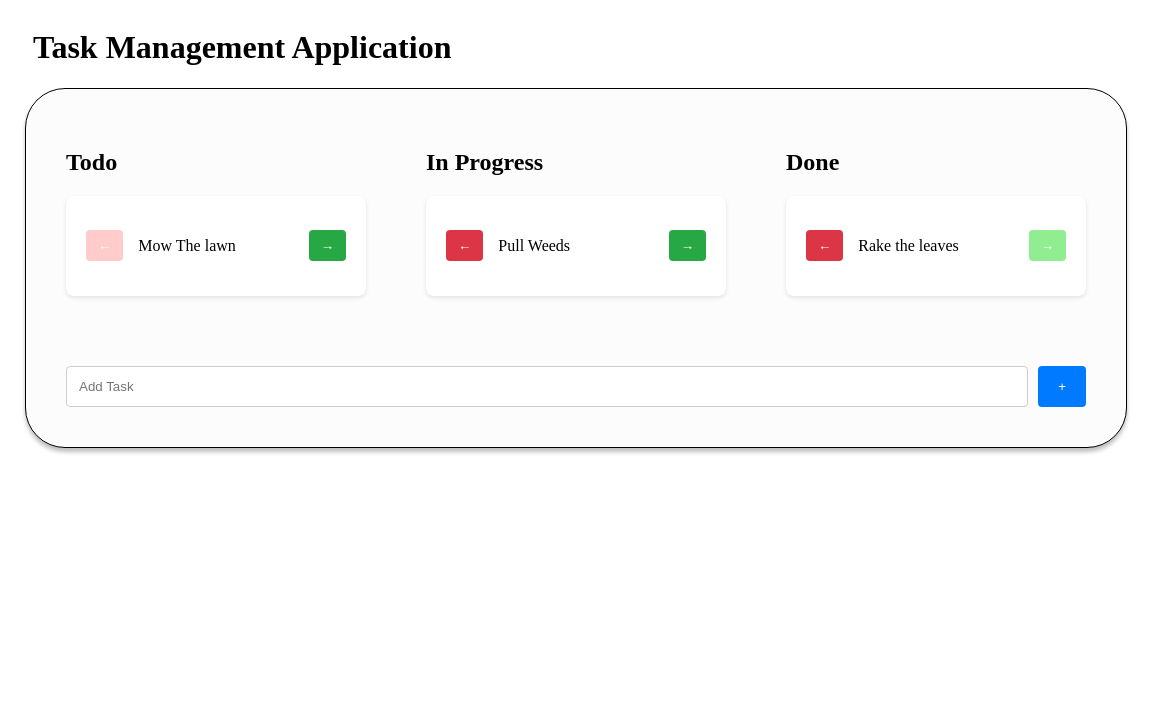
Scenario: Task Management Application › can add a new task
Type "Water the plants" into the field with placeholder "Add Task" at [547, 386], box [66,366,1028,407]
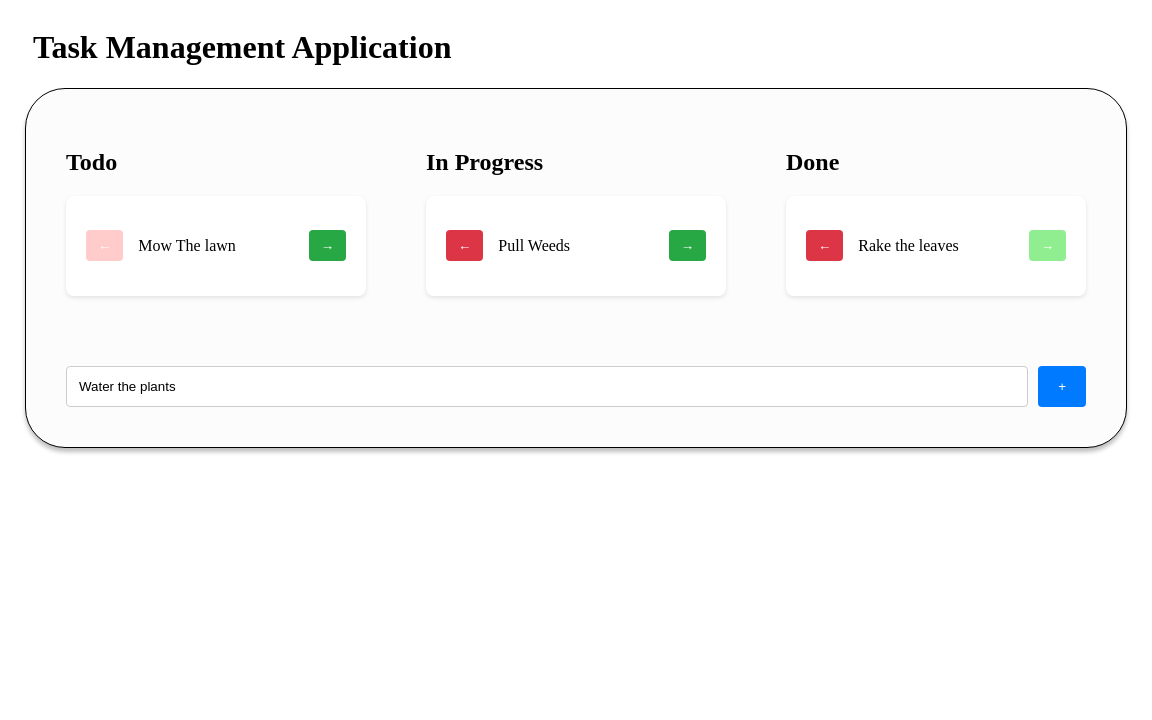
Click the button "+" at [1062, 386], box [1038,366,1086,407]
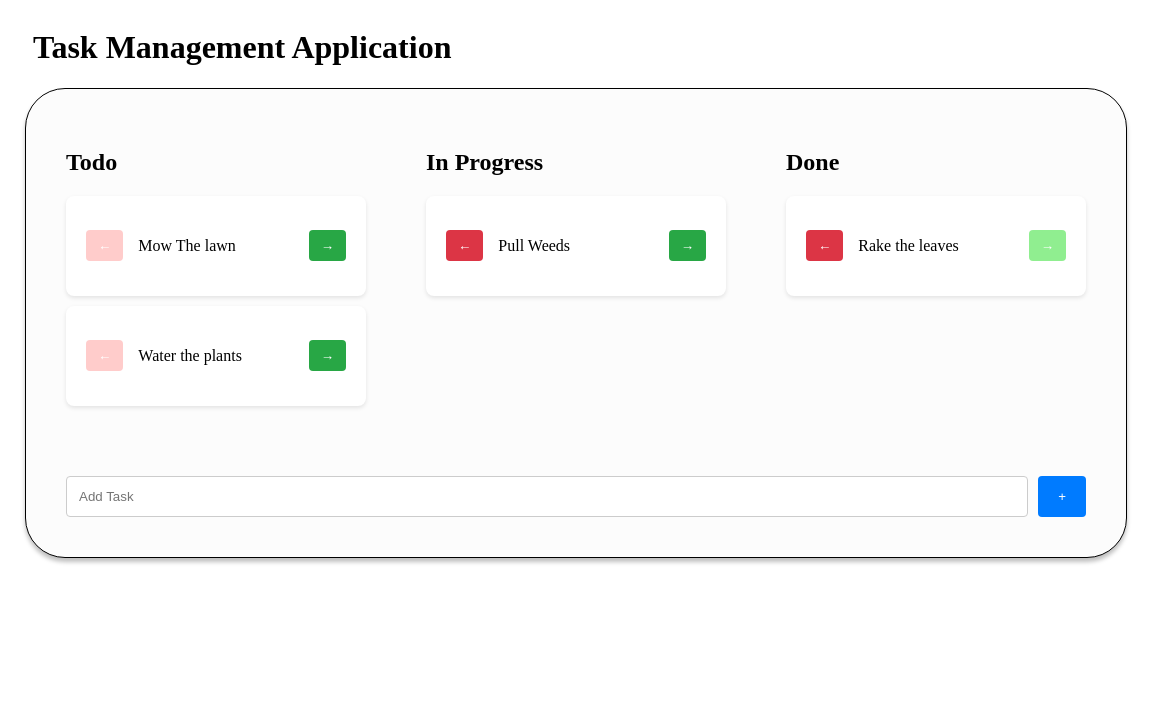
Now the text "Water the plants" is shown, box [138,347,242,364]
